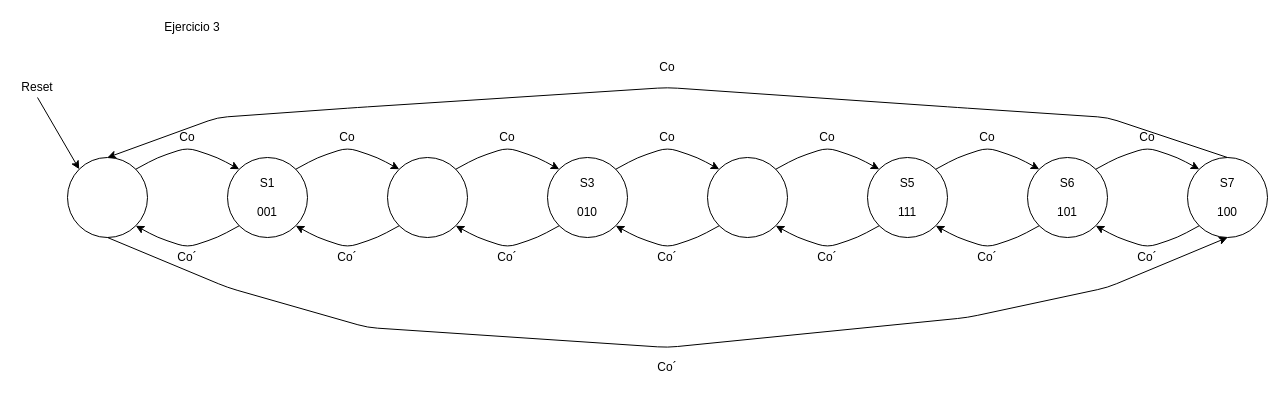
The diagram is 1285 pixels wide and 394 high, and some of its shapes have lost their labels. The centre of each missing label's shape, as x and y in pixels:
S0 000: (x=107, y=197)
S2 011: (x=427, y=197)
S4 110: (x=747, y=197)
